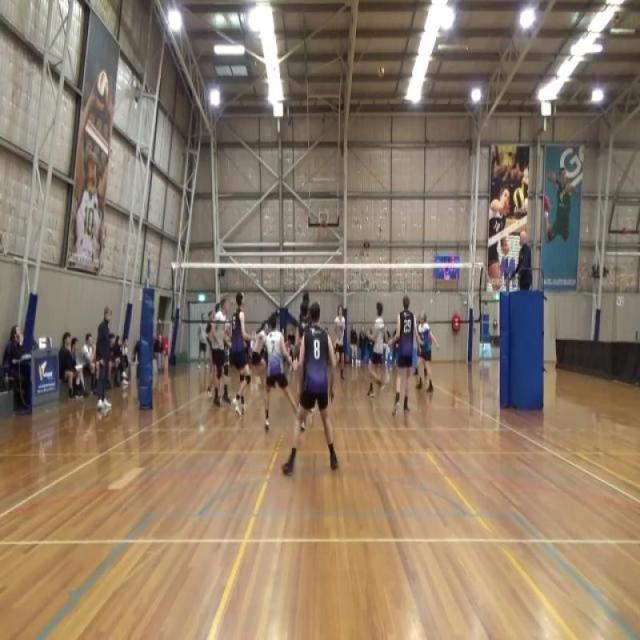volleyball: (95, 70, 108, 114), (512, 186, 524, 209), (378, 67, 384, 79)
